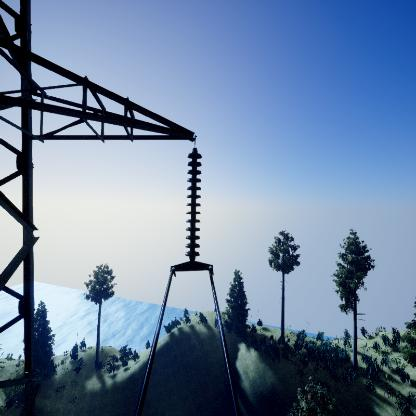insulator: (184, 150, 203, 257)
